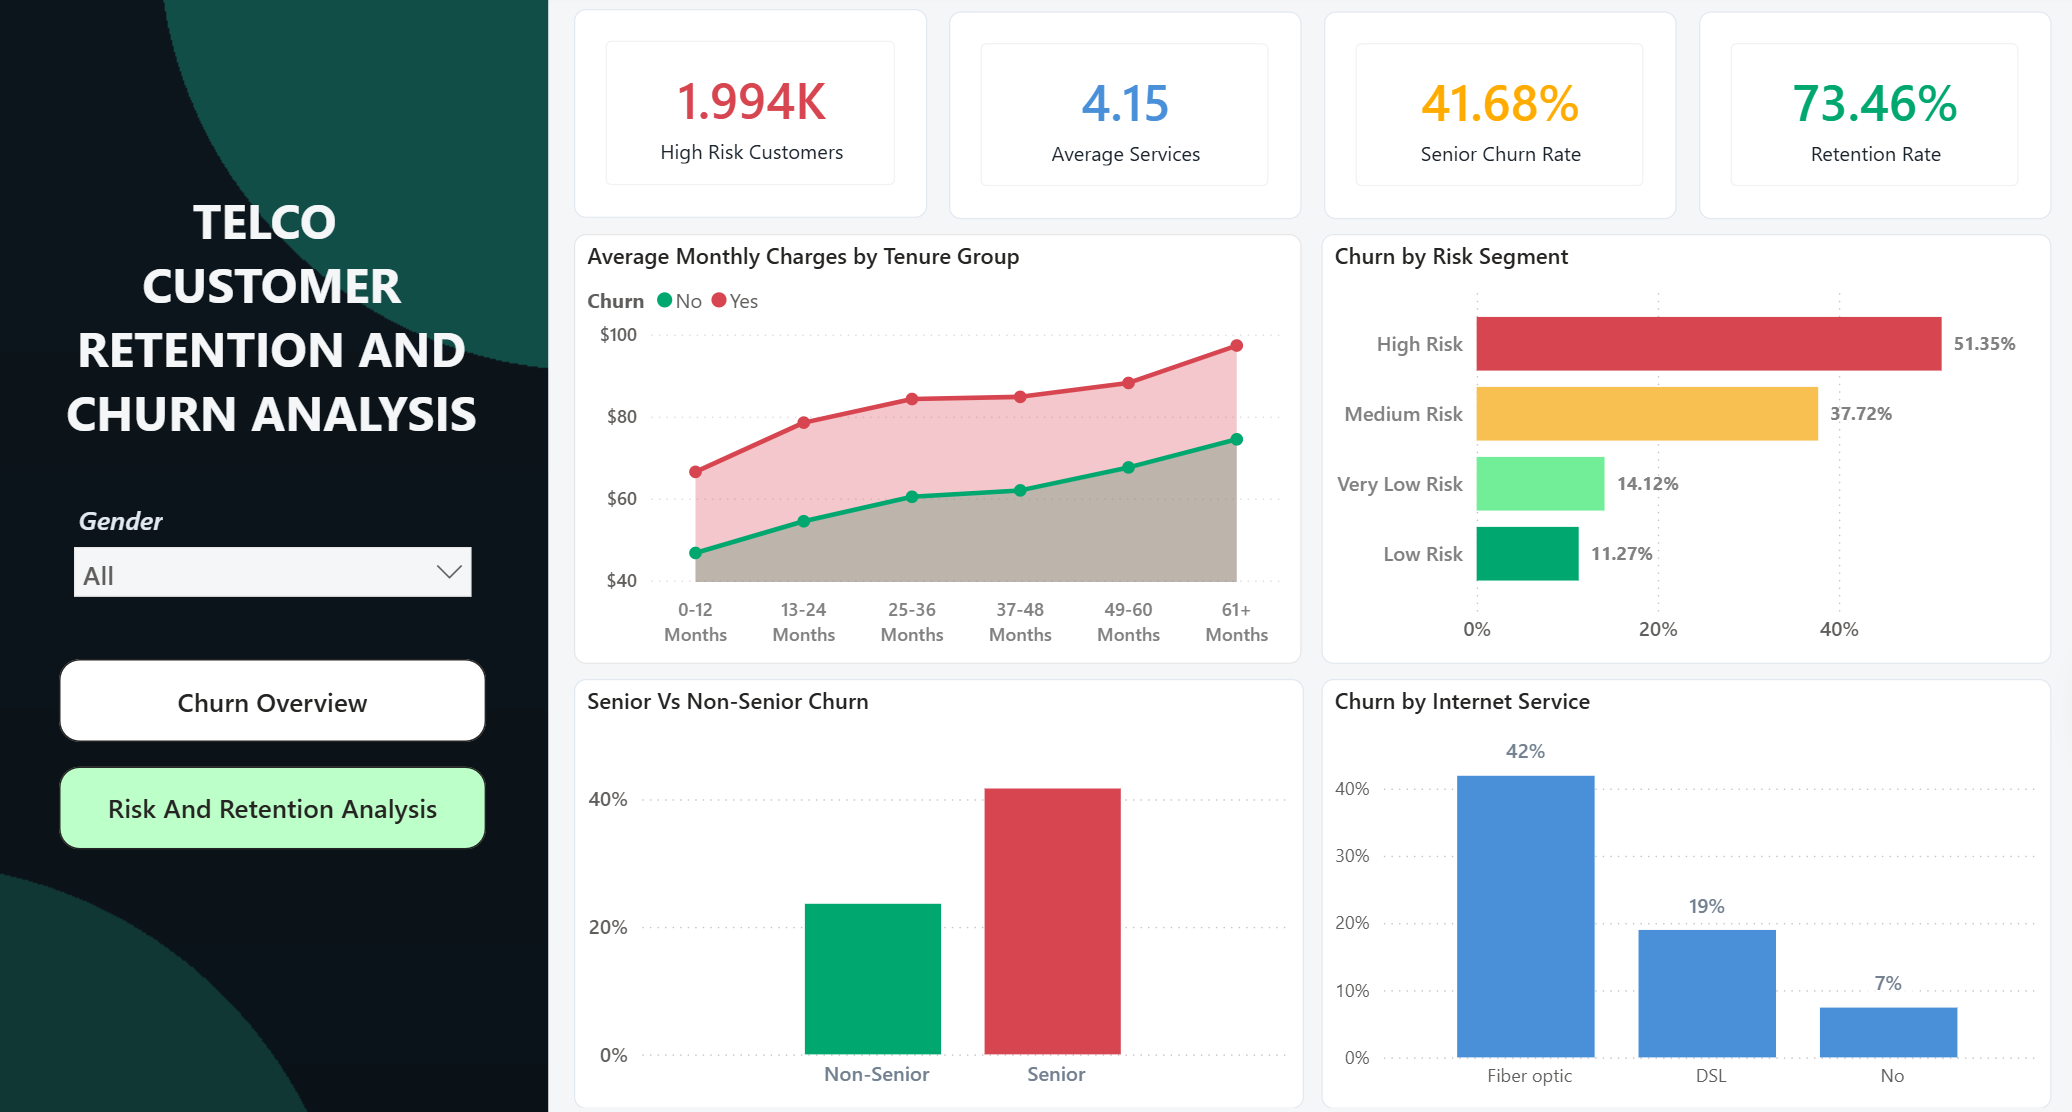

The dashboard page shown, as its layout file describes it:
{"tool":"powerbi","page":{"name":"Risk And Retention Analysis","canvas":[1380,750],"ordinal":1},"visuals":[{"type":"cardVisual","fields":{"Data":["telco_churn_clean.Senior Churn Rate"]},"box":[881,14.9,233.5,137.5],"z":0},{"type":"cardVisual","fields":{"Data":["Avg(telco_churn_clean.Num_Services)"]},"box":[633,14.9,233.5,137.5],"z":1000},{"type":"cardVisual","fields":{"Data":["telco_churn_clean.Retention Rate1"]},"box":[1129.6,14.9,233.5,137.5],"z":2000},{"type":"lineStackedColumnComboChart","title":"Churn by Internet Service","fields":{"Category":["telco_churn_clean.InternetService"],"Y":["telco_churn_clean.Churn Rate"]},"box":[879.5,457.2,483.7,284.9],"z":3000},{"type":"cardVisual","fields":{"Data":["CountNonNull(telco_churn_clean.Risk_Segment)"]},"box":[383.9,12.6,234,138.5],"z":5000},{"type":"clusteredBarChart","title":"Churn by Risk Segment","fields":{"Category":["telco_churn_clean.Risk_Segment"],"Y":["telco_churn_clean.Churn Rate"]},"box":[879.5,162.3,483.7,284.9],"z":6000},{"type":"lineStackedColumnComboChart","title":"Senior Vs Non-Senior Churn","fields":{"Y":["telco_churn_clean.Churn Rate"],"Category":["telco_churn_clean.SeniorCitizen_Label"]},"box":[384.3,457.2,483.7,284.9],"z":9000},{"type":"image","box":[0,0,367.2,950.4],"z":9500},{"type":"pageNavigator","box":[43.1,443.9,283.2,127.5],"z":10000},{"type":"lineChart","title":"Average Monthly Charges by Tenure Group","fields":{"Series":["telco_churn_clean.Churn"],"Y":["Avg(telco_churn_clean.MonthlyCharges)"],"Category":["telco_churn_clean.Tenure_Group"]},"box":[384.3,162.3,482,284.9],"z":12000},{"type":"textbox","box":[0,125.9,367.7,248.5],"z":12500},{"type":"slicer","fields":{"Values":["telco_churn_clean.gender"]},"box":[43.1,334.6,283.2,79.5],"z":13000}]}

Visuals, with their boxes in screenshot pixels (x1, y1, x2, y2), scaled from the page's 1380x750 canvas onto the 2072x1112 screenshot:
cardVisual - telco_churn_clean.Senior Churn Rate: [1323, 22, 1673, 226]
cardVisual - Avg(telco_churn_clean.Num_Services): [950, 22, 1301, 226]
cardVisual - telco_churn_clean.Retention Rate1: [1696, 22, 2047, 226]
"Churn by Internet Service" lineStackedColumnComboChart: [1321, 678, 2047, 1100]
cardVisual - CountNonNull(telco_churn_clean.Risk_Segment): [576, 19, 928, 224]
"Churn by Risk Segment" clusteredBarChart: [1321, 241, 2047, 663]
"Senior Vs Non-Senior Churn" lineStackedColumnComboChart: [577, 678, 1303, 1100]
image: [0, 0, 551, 1111]
pageNavigator: [65, 658, 490, 847]
"Average Monthly Charges by Tenure Group" lineChart: [577, 241, 1301, 663]
textbox: [0, 187, 552, 555]
slicer - telco_churn_clean.gender: [65, 496, 490, 614]
